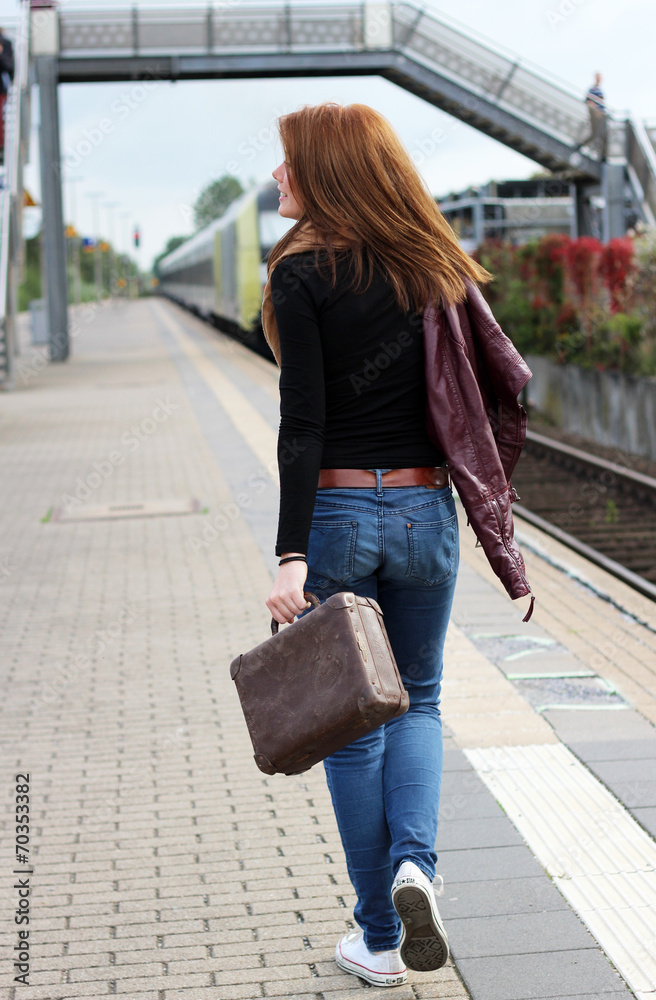person: (253, 101, 533, 992)
